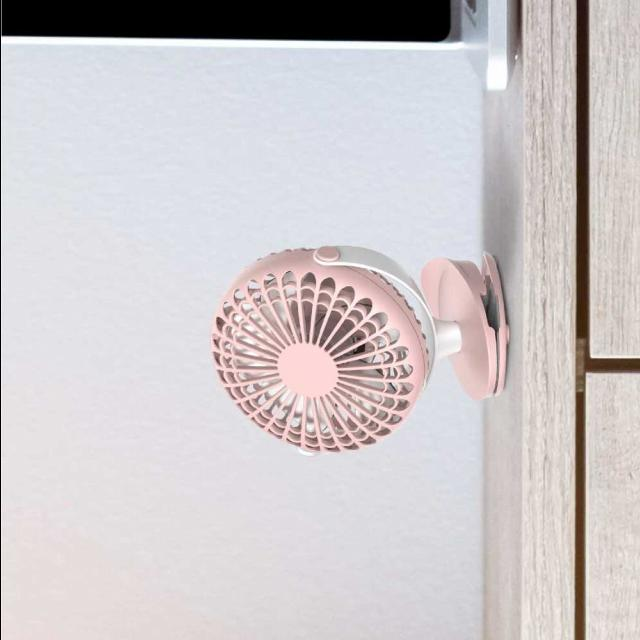fan: (210, 243, 526, 460)
